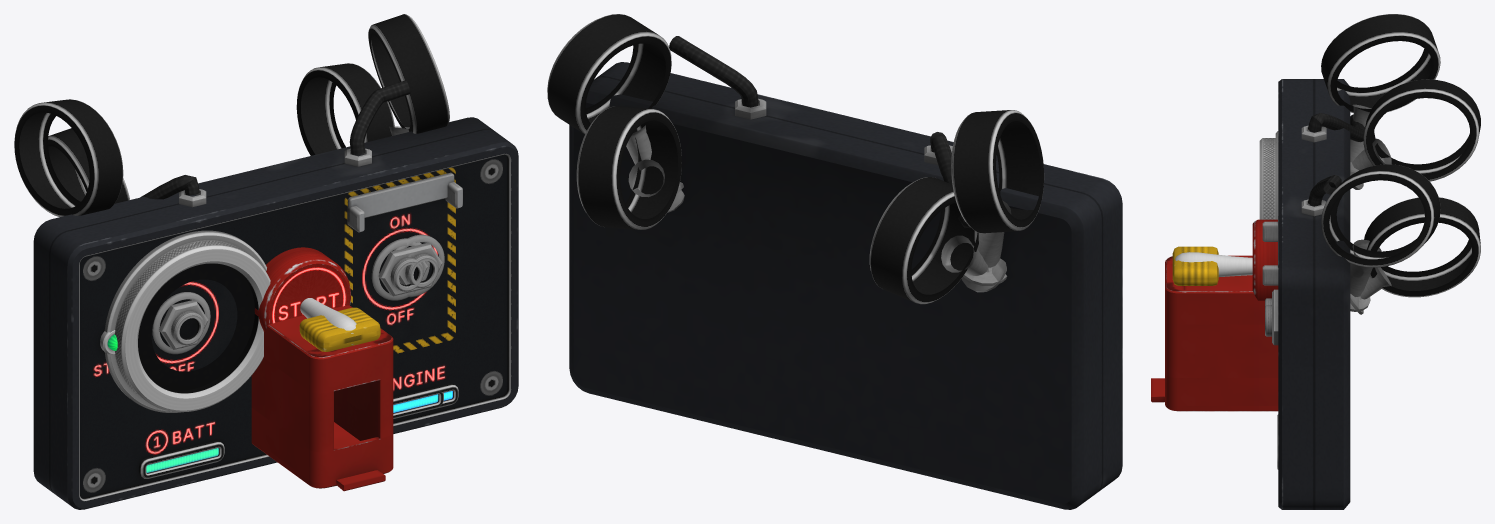
The model's file is start_panel_hd.glb.
The picture shows the model from 3 angles, left to right: view 1: azimuth 30°, elevation 25°; view 2: azimuth 150°, elevation 25°; view 3: azimuth 270°, elevation 25°; orthographic projection. The views are drawn at different scales.
Visible parts, largest first — view 1: PodL, PodR, Guard, ClampsR, ClampsL, Cap, Paddle, Bat; view 2: PodL, ClampsL, ClampsR; view 3: PodL, Guard, ClampsR, ClampsL, PodR, Paddle, Cap, Bat.
Part boxes in pixels (x1=…): PodL: x1=33, y1=117, x2=518, y2=509; PodR: x1=104, y1=230, x2=458, y2=418; Guard: x1=251, y1=305, x2=393, y2=491; ClampsR: x1=14, y1=63, x2=394, y2=216; ClampsL: x1=48, y1=14, x2=449, y2=203; Cap: x1=254, y1=247, x2=350, y2=331; Paddle: x1=299, y1=307, x2=380, y2=351; Bat: x1=300, y1=298, x2=356, y2=344; PodL: x1=569, y1=62, x2=1122, y2=509; ClampsL: x1=547, y1=14, x2=1006, y2=304; ClampsR: x1=576, y1=106, x2=1044, y2=285; PodL: x1=1262, y1=79, x2=1350, y2=509; Guard: x1=1151, y1=255, x2=1278, y2=411; ClampsR: x1=1301, y1=14, x2=1480, y2=314; ClampsL: x1=1301, y1=79, x2=1480, y2=311; PodR: x1=1259, y1=131, x2=1278, y2=469; Paddle: x1=1172, y1=246, x2=1218, y2=285; Cap: x1=1252, y1=219, x2=1278, y2=300; Bat: x1=1175, y1=252, x2=1252, y2=276.
Bounding box in the file's own units: 0.185 × 0.1386 × 0.1284.
Materials: 1 (1 with a texture image).
